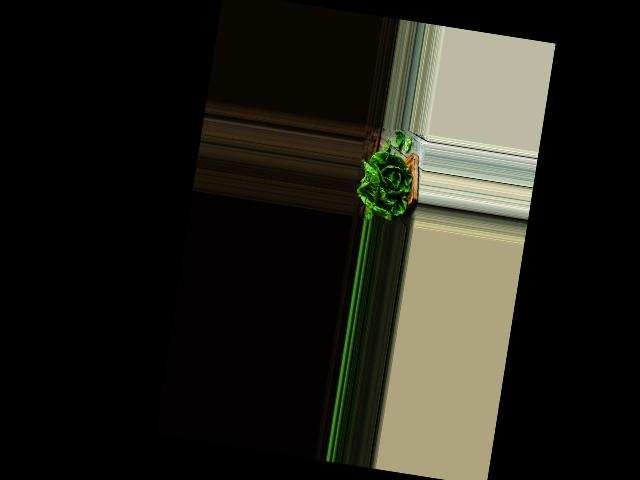lettuce: (354, 151, 417, 224)
